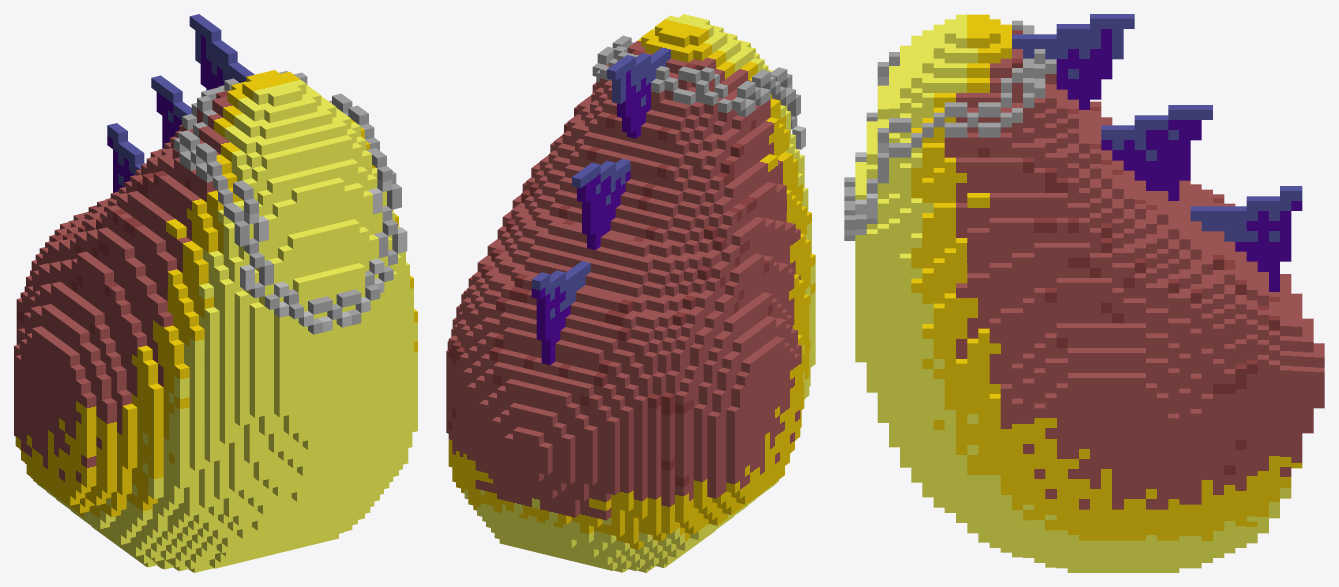
File: silver hooped chain.gltf
3 views of the same model, side by side, from view 1: azimuth 30°, elevation 25°; view 2: azimuth 150°, elevation 25°; view 3: azimuth 270°, elevation 25° (orthographic). The views are drawn at different scales.
Parts seen in each view (by area): view 1: 02_Body_SilverChain-Mesh; view 2: 02_Body_SilverChain-Mesh; view 3: 02_Body_SilverChain-Mesh.
Part boxes in pixels (x1=…): 02_Body_SilverChain-Mesh: x1=14, y1=14, x2=417, y2=572; 02_Body_SilverChain-Mesh: x1=446, y1=14, x2=815, y2=572; 02_Body_SilverChain-Mesh: x1=844, y1=14, x2=1324, y2=572.
Bounding box in the file's own units: 33 × 51 × 43.
1 material, 1 textured.
